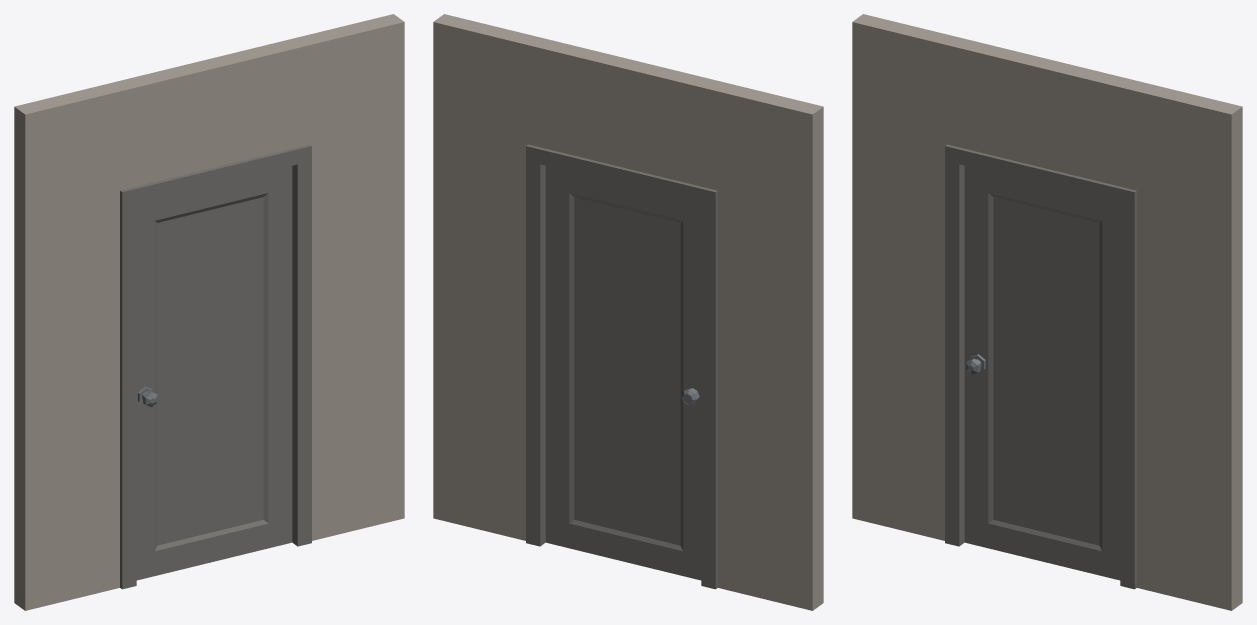
Rendered from SM_Bldg_City_InteriorWall_Door_02.fbx.
3 renders of one model, left to right at view 1: azimuth 30°, elevation 25°; view 2: azimuth 150°, elevation 25°; view 3: azimuth 330°, elevation 25°, orthographic.
Parts seen in each view (by area): view 1: SM_Bldg_City_InteriorWall_Door_02, SM_Bldg_City_InteriorWall_Door_02_Door; view 2: SM_Bldg_City_InteriorWall_Door_02, SM_Bldg_City_InteriorWall_Door_02_Door; view 3: SM_Bldg_City_InteriorWall_Door_02, SM_Bldg_City_InteriorWall_Door_02_Door.
Boxes of the visible parts, x1,y1,x2,y2 form: SM_Bldg_City_InteriorWall_Door_02: [14, 14, 404, 610]; SM_Bldg_City_InteriorWall_Door_02_Door: [136, 166, 292, 580]; SM_Bldg_City_InteriorWall_Door_02: [433, 14, 823, 610]; SM_Bldg_City_InteriorWall_Door_02_Door: [545, 166, 701, 580]; SM_Bldg_City_InteriorWall_Door_02: [852, 14, 1242, 610]; SM_Bldg_City_InteriorWall_Door_02_Door: [964, 166, 1120, 580].
Bounding box in the file's own units: 200 × 250 × 16.17.
